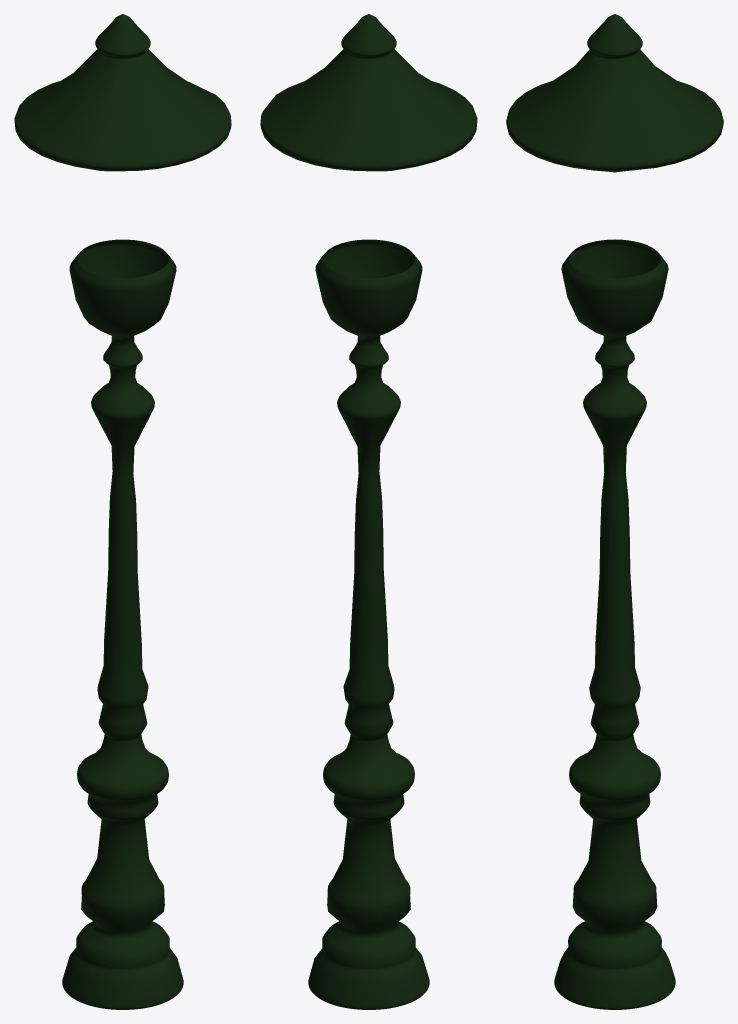
Rendered from lamp_pillar.obj.
3 renders of one model, left to right at view 1: azimuth 30°, elevation 25°; view 2: azimuth 150°, elevation 25°; view 3: azimuth 270°, elevation 25°, orthographic.
Parts seen in each view (by area): view 1: lamp_pillar; view 2: lamp_pillar; view 3: lamp_pillar.
Boxes of the visible parts, x1,y1,x2,y2 form: lamp_pillar: [14, 14, 231, 1009]; lamp_pillar: [260, 14, 477, 1009]; lamp_pillar: [506, 14, 723, 1009].
Size of the model in its own units: 2.25 by 11.17 by 2.25.
